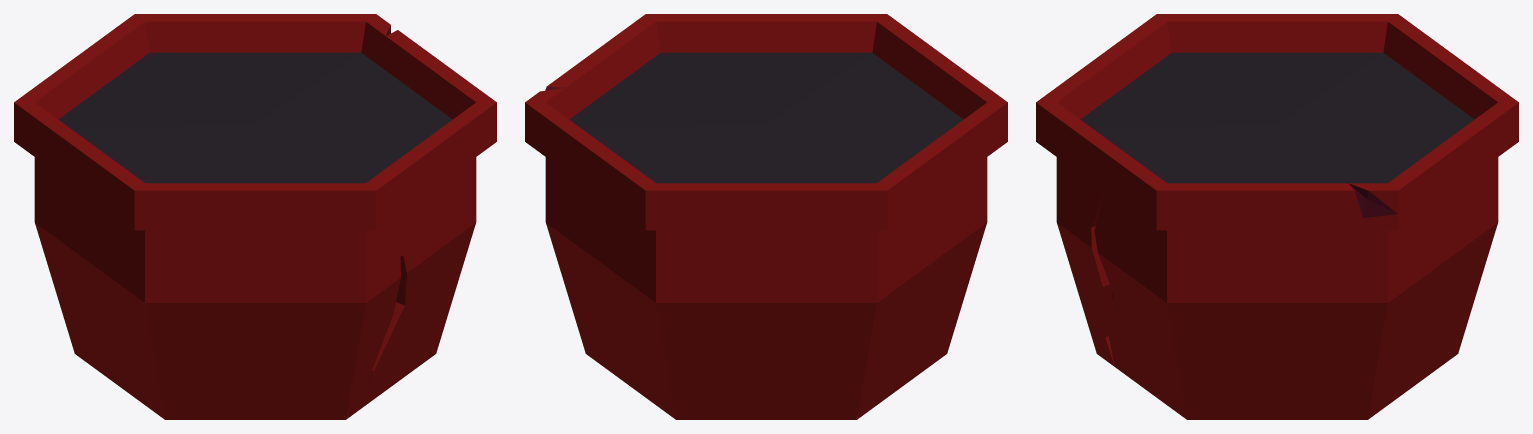
Rendered from pots.fbx.
The picture shows the model from 3 angles, left to right: view 1: azimuth 30°, elevation 25°; view 2: azimuth 150°, elevation 25°; view 3: azimuth 270°, elevation 25°; orthographic projection.
Visible parts, largest first — view 1: Pot1; view 2: Pot1; view 3: Pot1.
Part boxes in pixels (left/top/right/bottom): Pot1: left=14, top=14, right=496, bottom=419; Pot1: left=525, top=14, right=1007, bottom=419; Pot1: left=1036, top=14, right=1518, bottom=419.
Bounding box in the file's own units: 56.83 × 39.77 × 65.62.
